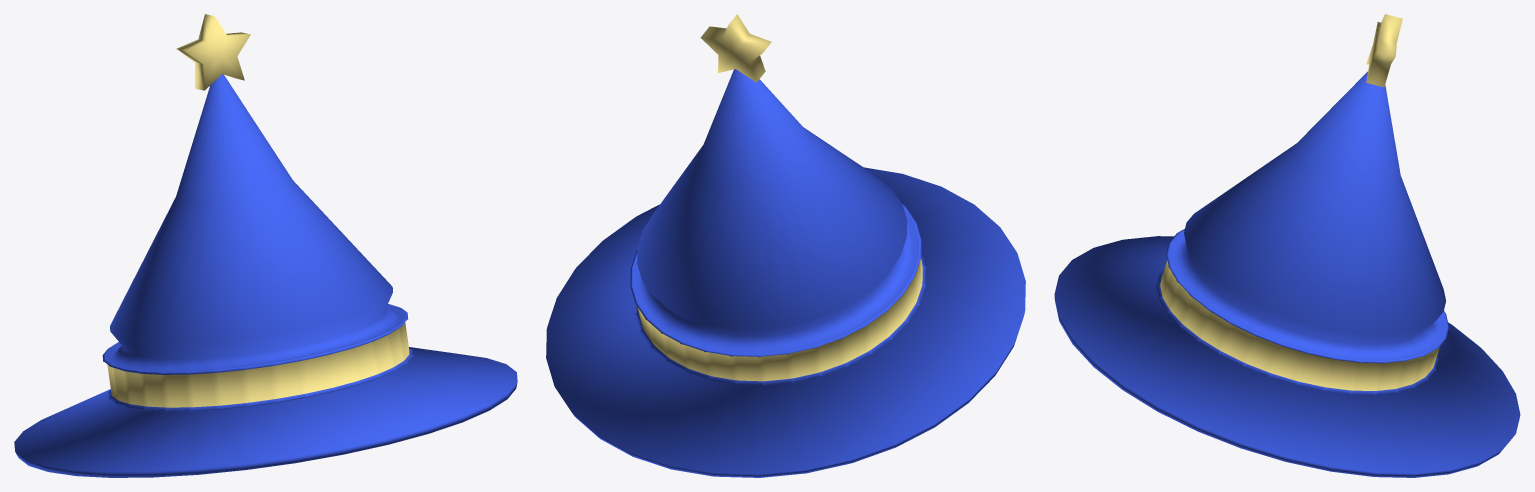
File: MagicHat.fbx
The picture shows the model from 3 angles, left to right: view 1: azimuth 30°, elevation 25°; view 2: azimuth 150°, elevation 25°; view 3: azimuth 270°, elevation 25°; orthographic projection. The views are drawn at different scales.
Parts seen in each view (by area): view 1: hat; view 2: hat; view 3: hat.
Boxes of the visible parts, x1,y1,x2,y2 form: hat: (14, 14, 517, 477); hat: (546, 14, 1025, 477); hat: (1054, 14, 1520, 477).
Size of the model in its own units: 205 by 189 by 197.
